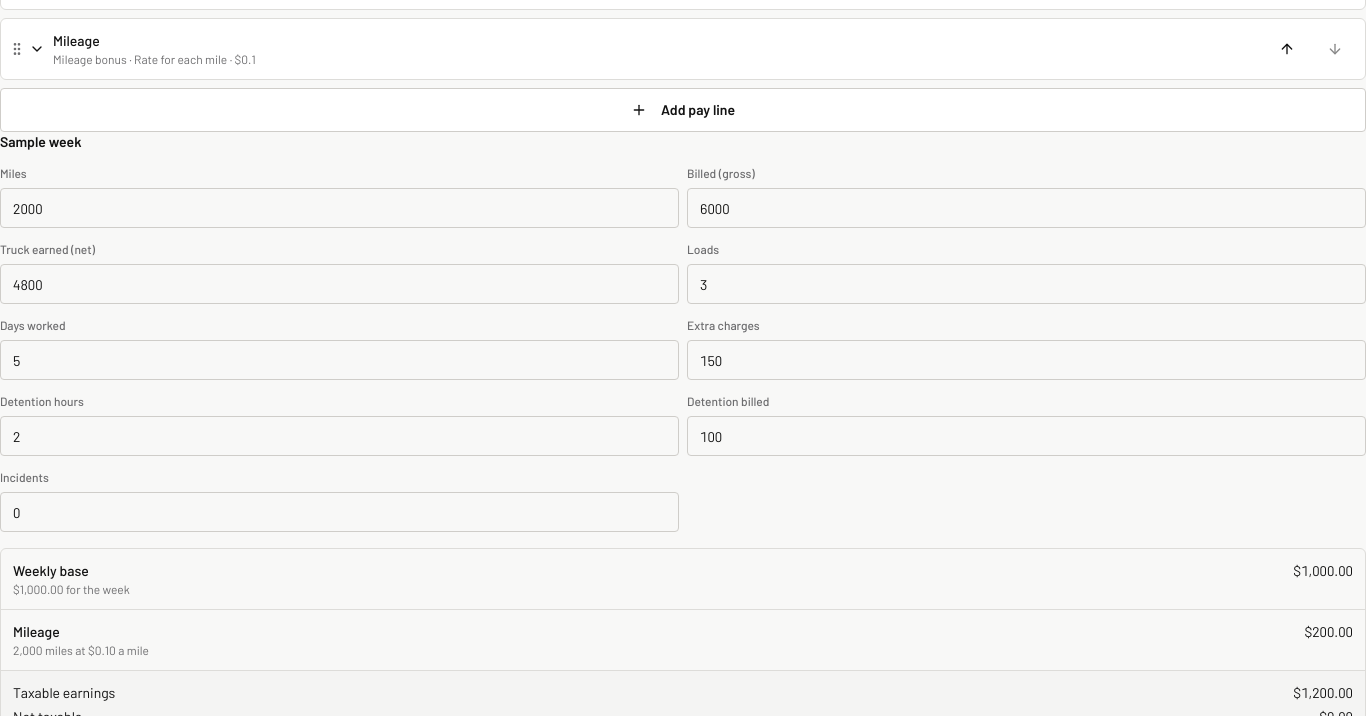
it: pay package screens › adds a line and flags a broken formula
Step 1. Click the button "Add pay line" → (683, 110), box x1=0 y1=88 x2=1365 y2=132
(page scrolled)
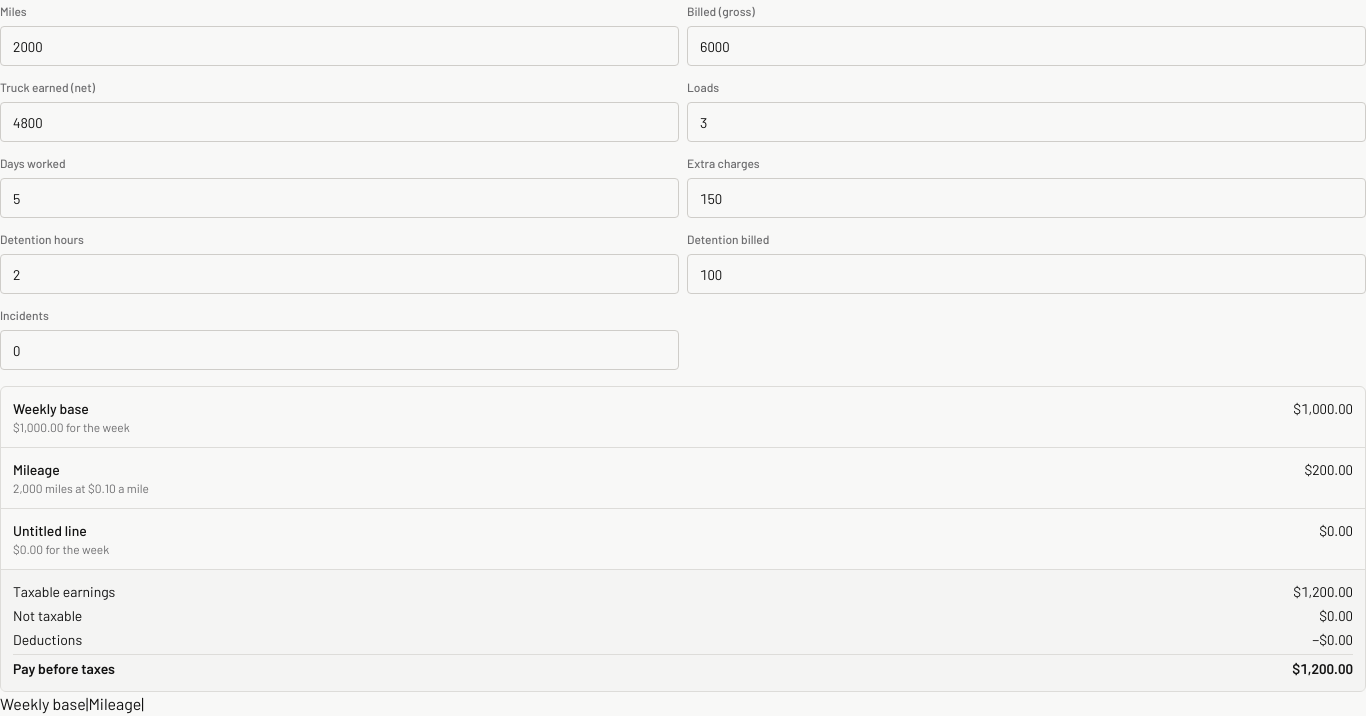
Check: the text with test id "order" reads "Weekly base|Mileage|", box x1=0 y1=694 x2=144 y2=713
